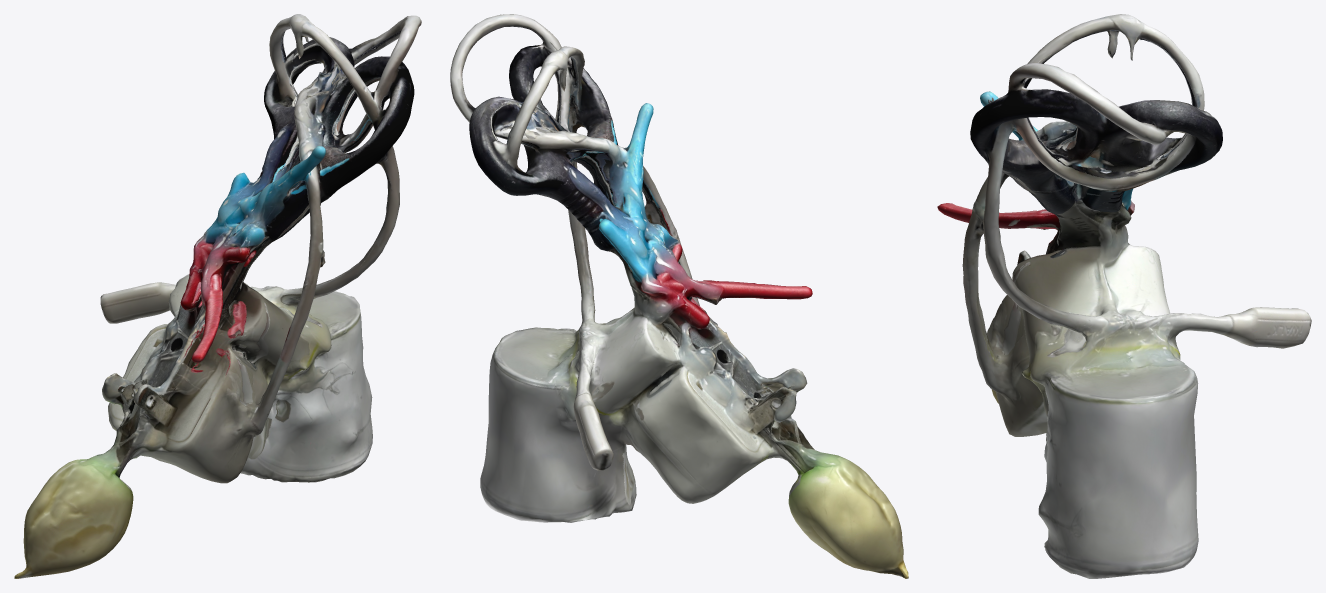
3 views of the same model, side by side, from view 1: azimuth 30°, elevation 25°; view 2: azimuth 150°, elevation 25°; view 3: azimuth 270°, elevation 25° (orthographic). The views are drawn at different scales.
Parts seen in each view (by area): view 1: P2.001; view 2: P2.001; view 3: P2.001.
Boxes of the visible parts, left/top/right/bottom form: P2.001: left=14, top=14, right=421, bottom=578; P2.001: left=450, top=14, right=908, bottom=578; P2.001: left=937, top=14, right=1311, bottom=578.
Size of the model in its own units: 0.5027 by 0.5283 by 0.3196.
Materials: 1 (1 with a texture image).
